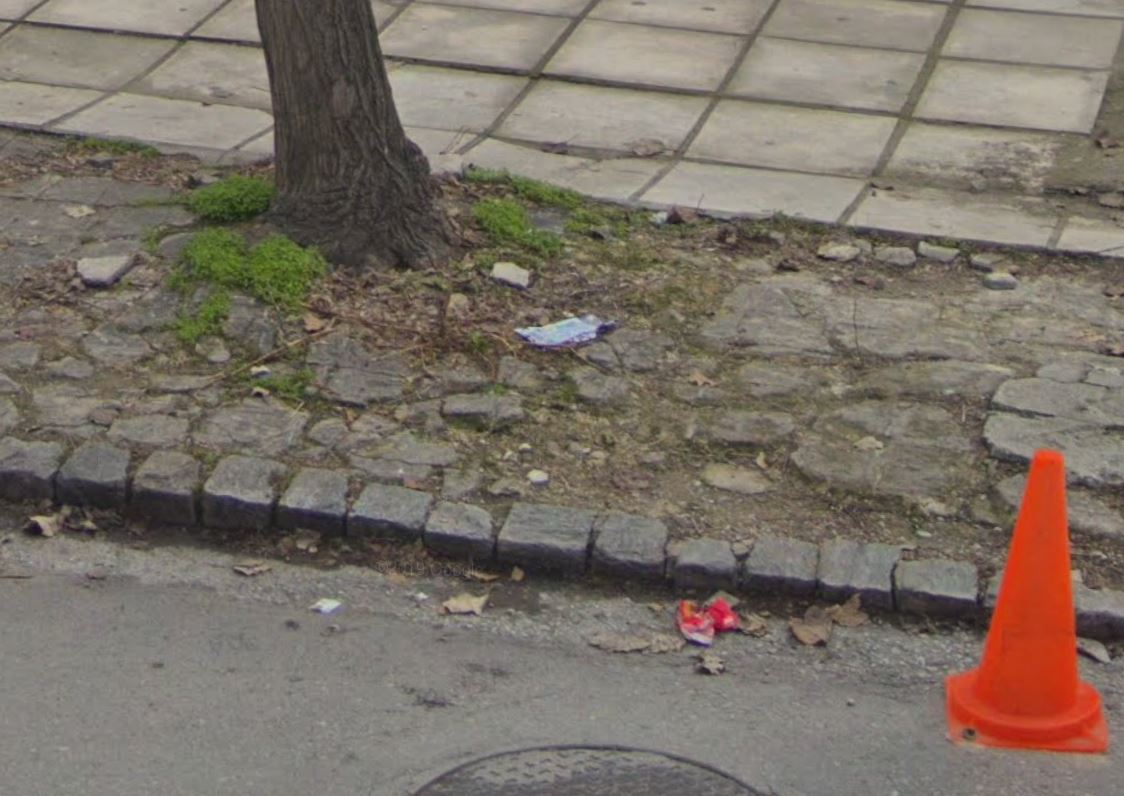trash: (648, 582, 752, 646), (507, 303, 623, 355), (297, 580, 348, 625)
